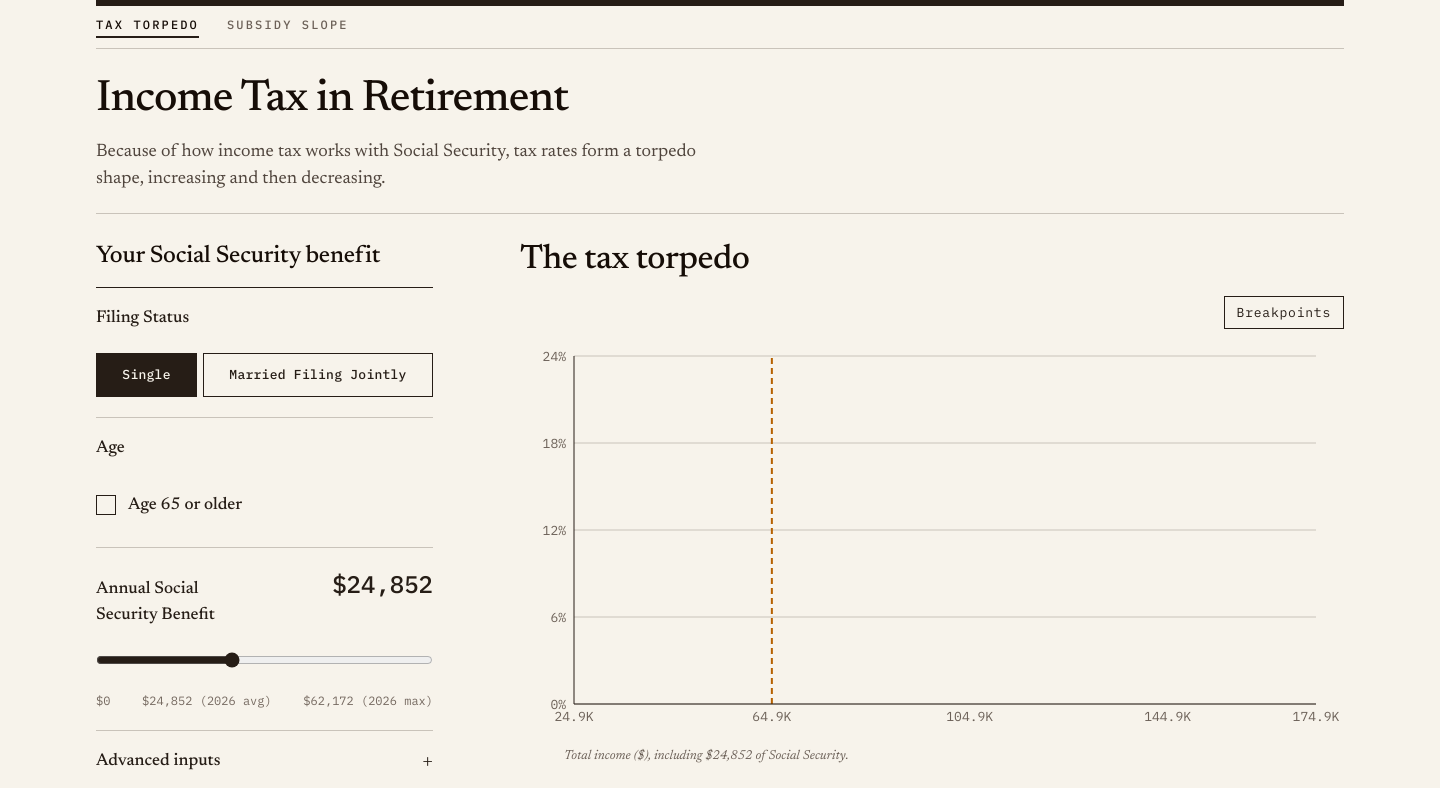
Test: the Breakpoints panel on the torpedo chart › closes on Escape and puts focus back on the button
Click the button "Breakpoints".
click(1284, 312)  # box [1224,296,1344,329]
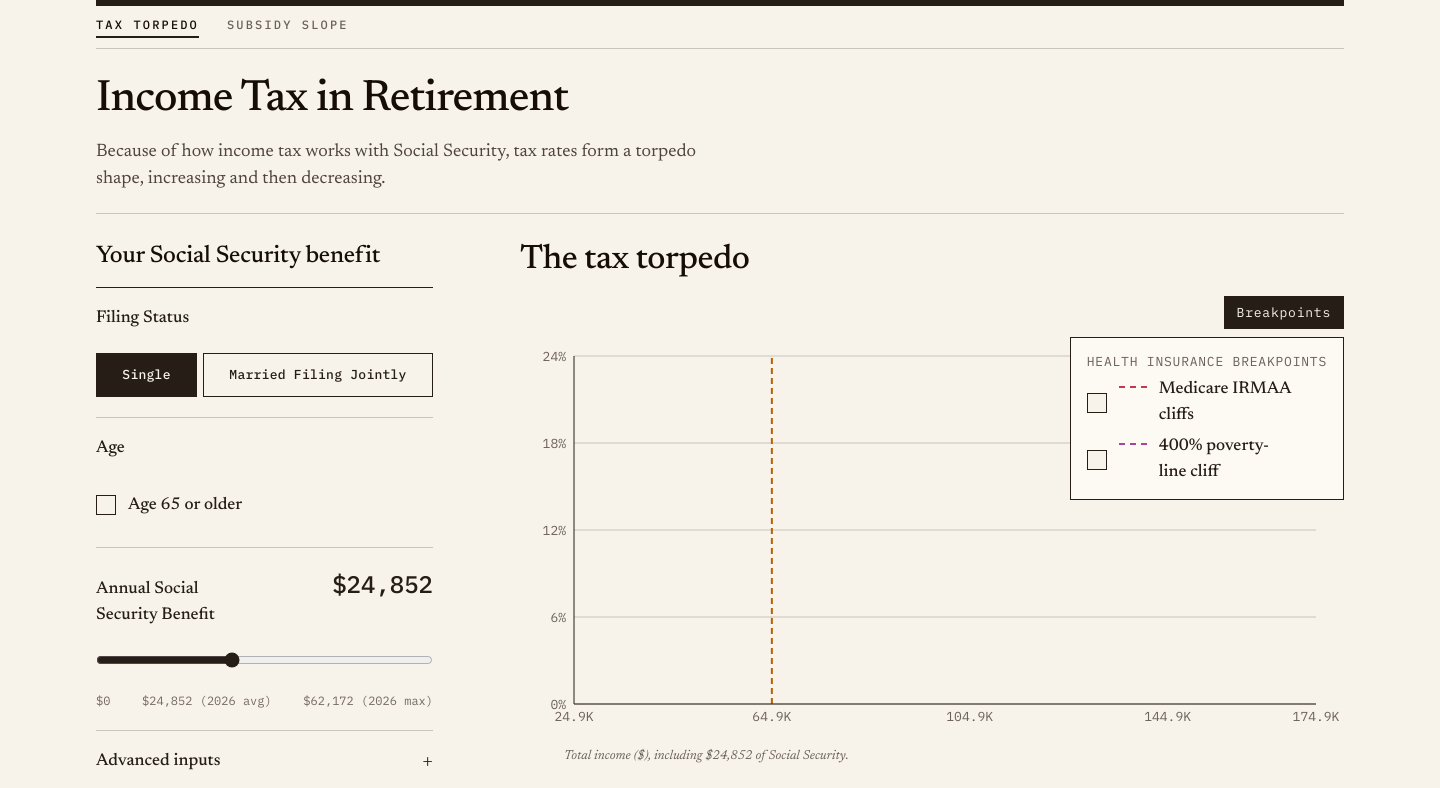
Press Escape
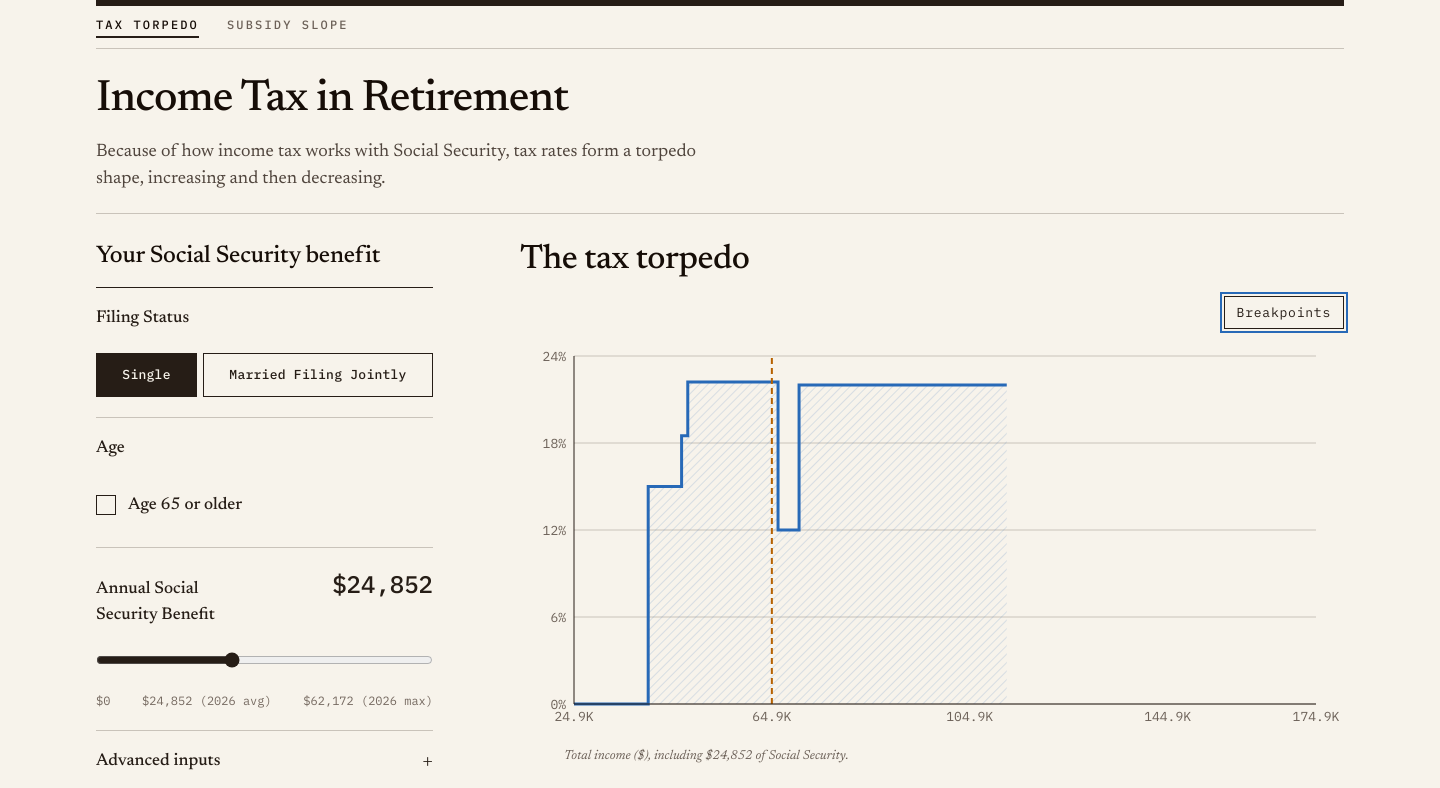
Now the text "Health insurance breakpoints" is gone
